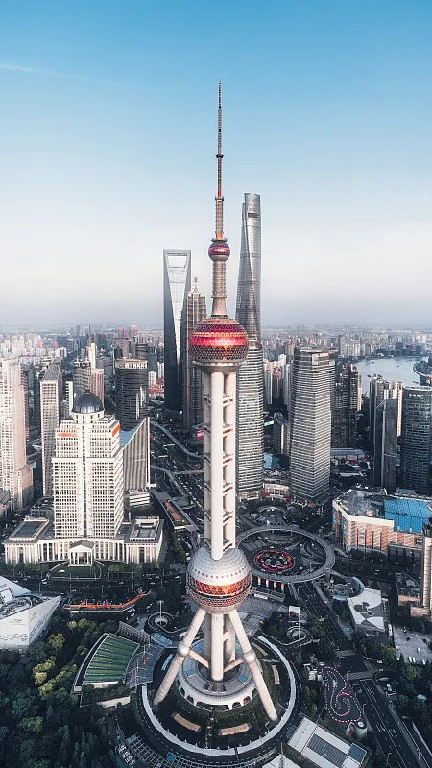Oriental: (152, 82, 278, 721)
